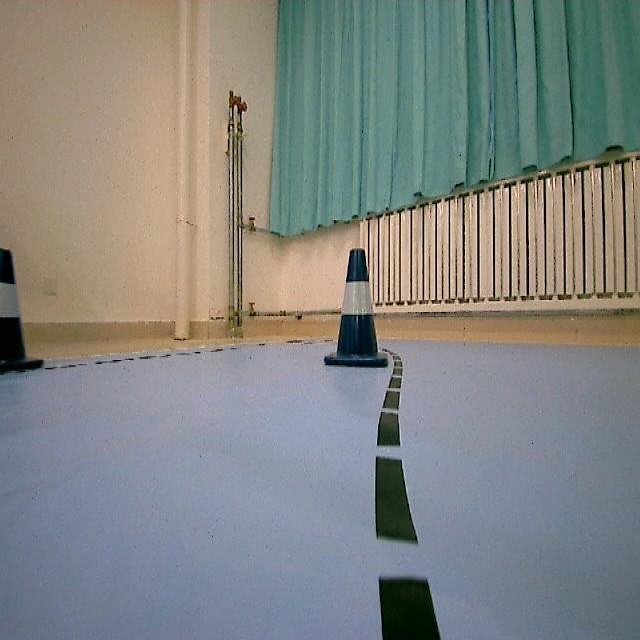obstacle: (326, 248, 384, 368)
